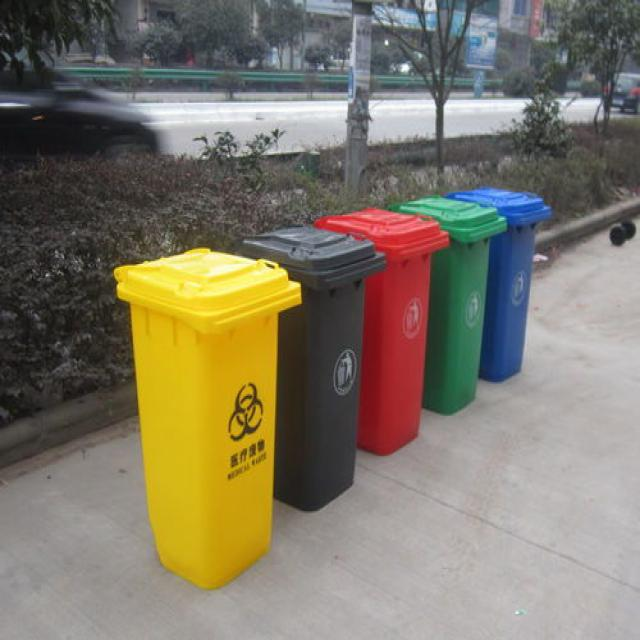garbage_bin: (112, 245, 300, 588), (240, 223, 386, 511), (312, 204, 448, 454), (392, 193, 506, 419), (443, 187, 549, 381)
